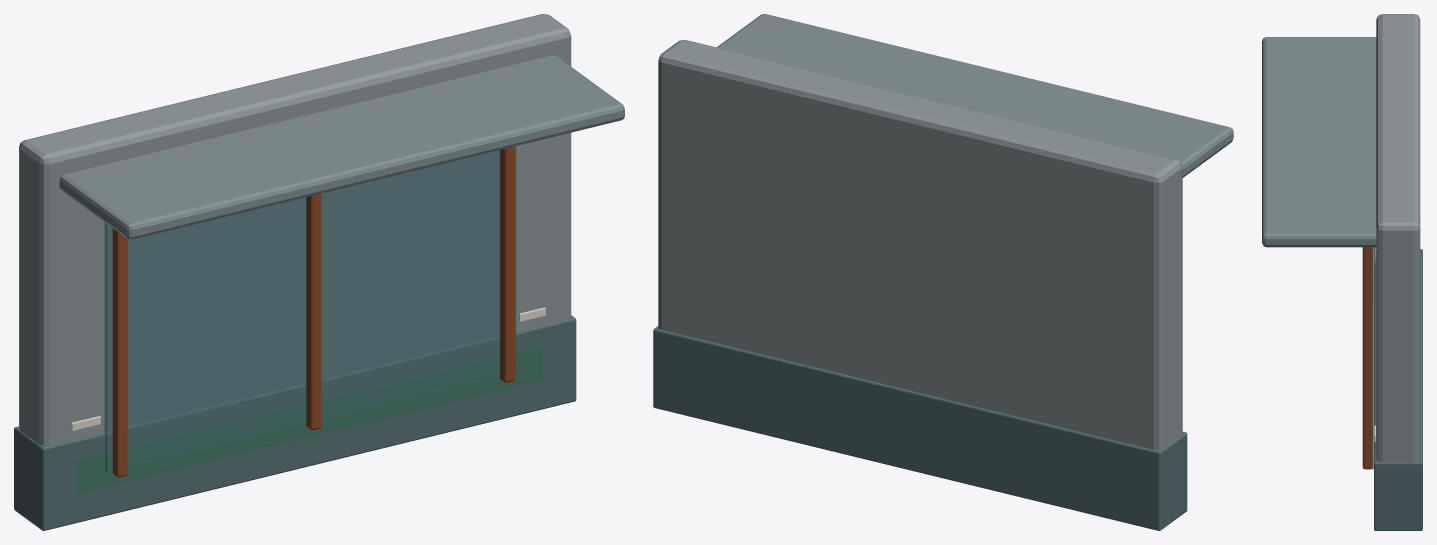
File: SM_FC01_Building_Storefront_Broken_A.fbx
3 renders of one model, left to right at view 1: azimuth 30°, elevation 25°; view 2: azimuth 150°, elevation 25°; view 3: azimuth 270°, elevation 25°, orthographic. The views are drawn at different scales.
Visible parts, largest first — view 1: SM_FC01_Building_Storefront_Broken_A_Frame, SM_FC01_Building_Storefront_Broken_A_Void, SM_FC01_Building_Storefront_Broken_A_Awning, SM_FC01_Building_Storefront_Broken_A_WetBand, SM_FC01_Building_Storefront_Broken_A_AlgaeBand, SM_FC01_Building_Storefront_Broken_A_Mullion_-1.75, SM_FC01_Building_Storefront_Broken_A_Mullion_0, SM_FC01_Building_Storefront_Broken_A_Mullion_1.75; view 2: SM_FC01_Building_Storefront_Broken_A_Frame, SM_FC01_Building_Storefront_Broken_A_WetBand, SM_FC01_Building_Storefront_Broken_A_Awning; view 3: SM_FC01_Building_Storefront_Broken_A_Awning, SM_FC01_Building_Storefront_Broken_A_Frame, SM_FC01_Building_Storefront_Broken_A_WetBand, SM_FC01_Building_Storefront_Broken_A_Mullion_1.75, SM_FC01_Building_Storefront_Broken_A_Void.
Part boxes in pixels (x1,y1,x2,y2): SM_FC01_Building_Storefront_Broken_A_Frame: [19, 14, 571, 445]; SM_FC01_Building_Storefront_Broken_A_Void: [104, 146, 516, 472]; SM_FC01_Building_Storefront_Broken_A_Awning: [59, 55, 624, 239]; SM_FC01_Building_Storefront_Broken_A_WetBand: [14, 315, 576, 530]; SM_FC01_Building_Storefront_Broken_A_AlgaeBand: [77, 346, 542, 492]; SM_FC01_Building_Storefront_Broken_A_Mullion_-1.75: [112, 228, 127, 477]; SM_FC01_Building_Storefront_Broken_A_Mullion_0: [306, 193, 321, 429]; SM_FC01_Building_Storefront_Broken_A_Mullion_1.75: [499, 146, 514, 382]; SM_FC01_Building_Storefront_Broken_A_Frame: [658, 40, 1182, 450]; SM_FC01_Building_Storefront_Broken_A_WetBand: [653, 326, 1187, 530]; SM_FC01_Building_Storefront_Broken_A_Awning: [716, 14, 1233, 177]; SM_FC01_Building_Storefront_Broken_A_Awning: [1262, 37, 1376, 247]; SM_FC01_Building_Storefront_Broken_A_Frame: [1376, 14, 1420, 462]; SM_FC01_Building_Storefront_Broken_A_WetBand: [1374, 249, 1422, 530]; SM_FC01_Building_Storefront_Broken_A_Mullion_1.75: [1362, 247, 1372, 469]; SM_FC01_Building_Storefront_Broken_A_Void: [1370, 247, 1375, 469].
Bounding box in the file's own units: 4.82 × 3.21 × 1.53.
